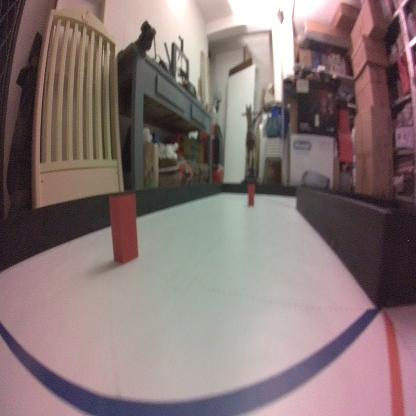red: (108, 192, 139, 265), (247, 182, 255, 209)
